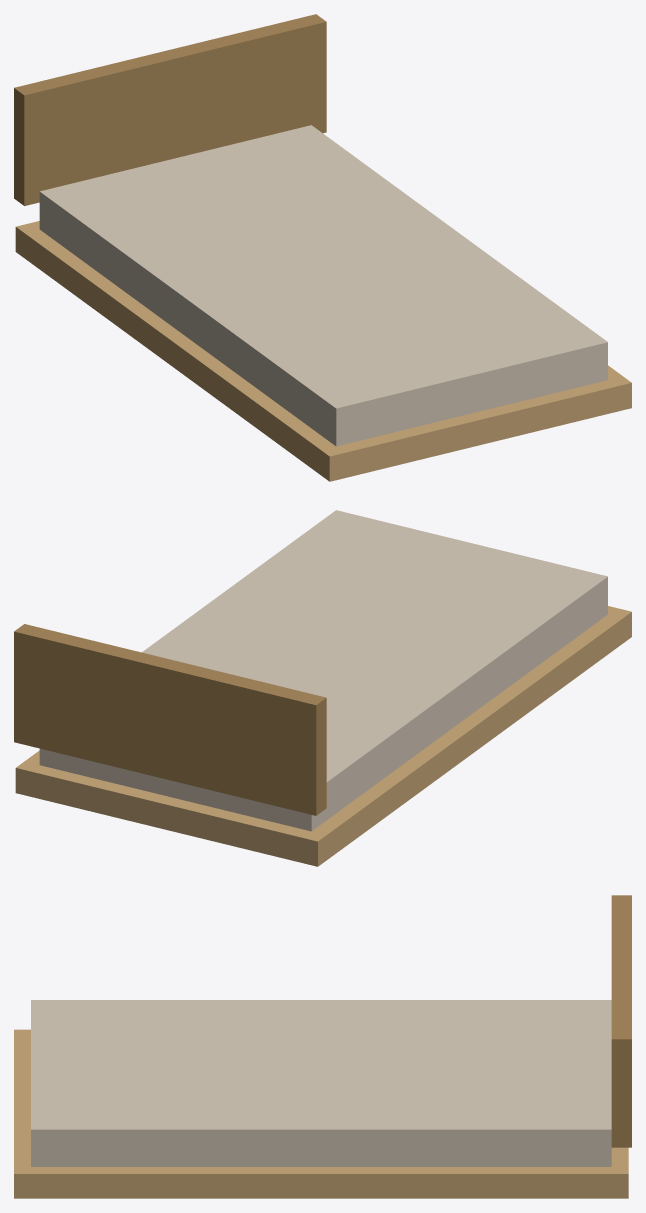
File: bed.glb
3 views of the same model, one above another, from view 1: azimuth 30°, elevation 25°; view 2: azimuth 150°, elevation 25°; view 3: azimuth 270°, elevation 25° (orthographic). The views are drawn at different scales.
Parts seen in each view (by area): view 1: Mattress, Head, Frame; view 2: Mattress, Head, Frame; view 3: Mattress, Frame, Head.
Part boxes in pixels (x1,y1,x2,y2): Mattress: (39,125,607,446); Head: (14,14,326,205); Frame: (15,221,631,481); Mattress: (39,510,607,831); Head: (14,624,326,815); Frame: (15,606,631,866); Mattress: (31,1000,611,1166); Frame: (14,1029,628,1198); Head: (611,895,631,1147).
Bounding box in the file's own units: 1 × 0.515 × 1.81.
